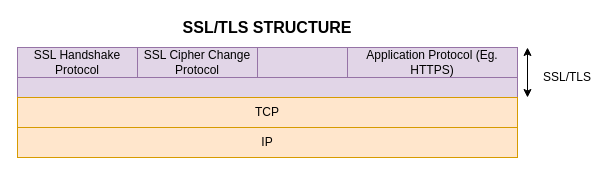
Some shapes in this 615 by 175 pixel diagram are drawn without their labels. Each missing label, with the box of its shape:
SSL Alert Protocol: (256, 46, 348, 78)
SSL RECORD PROTOCOL: (16, 76, 518, 98)
